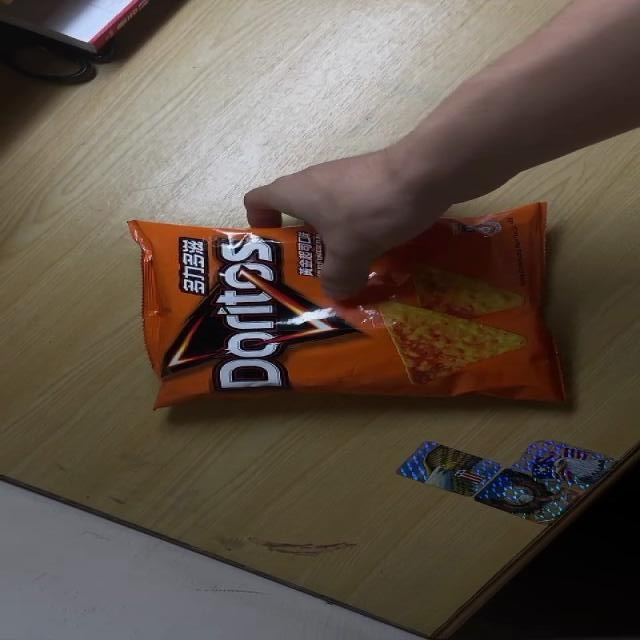Doritos: (129, 200, 564, 411)
